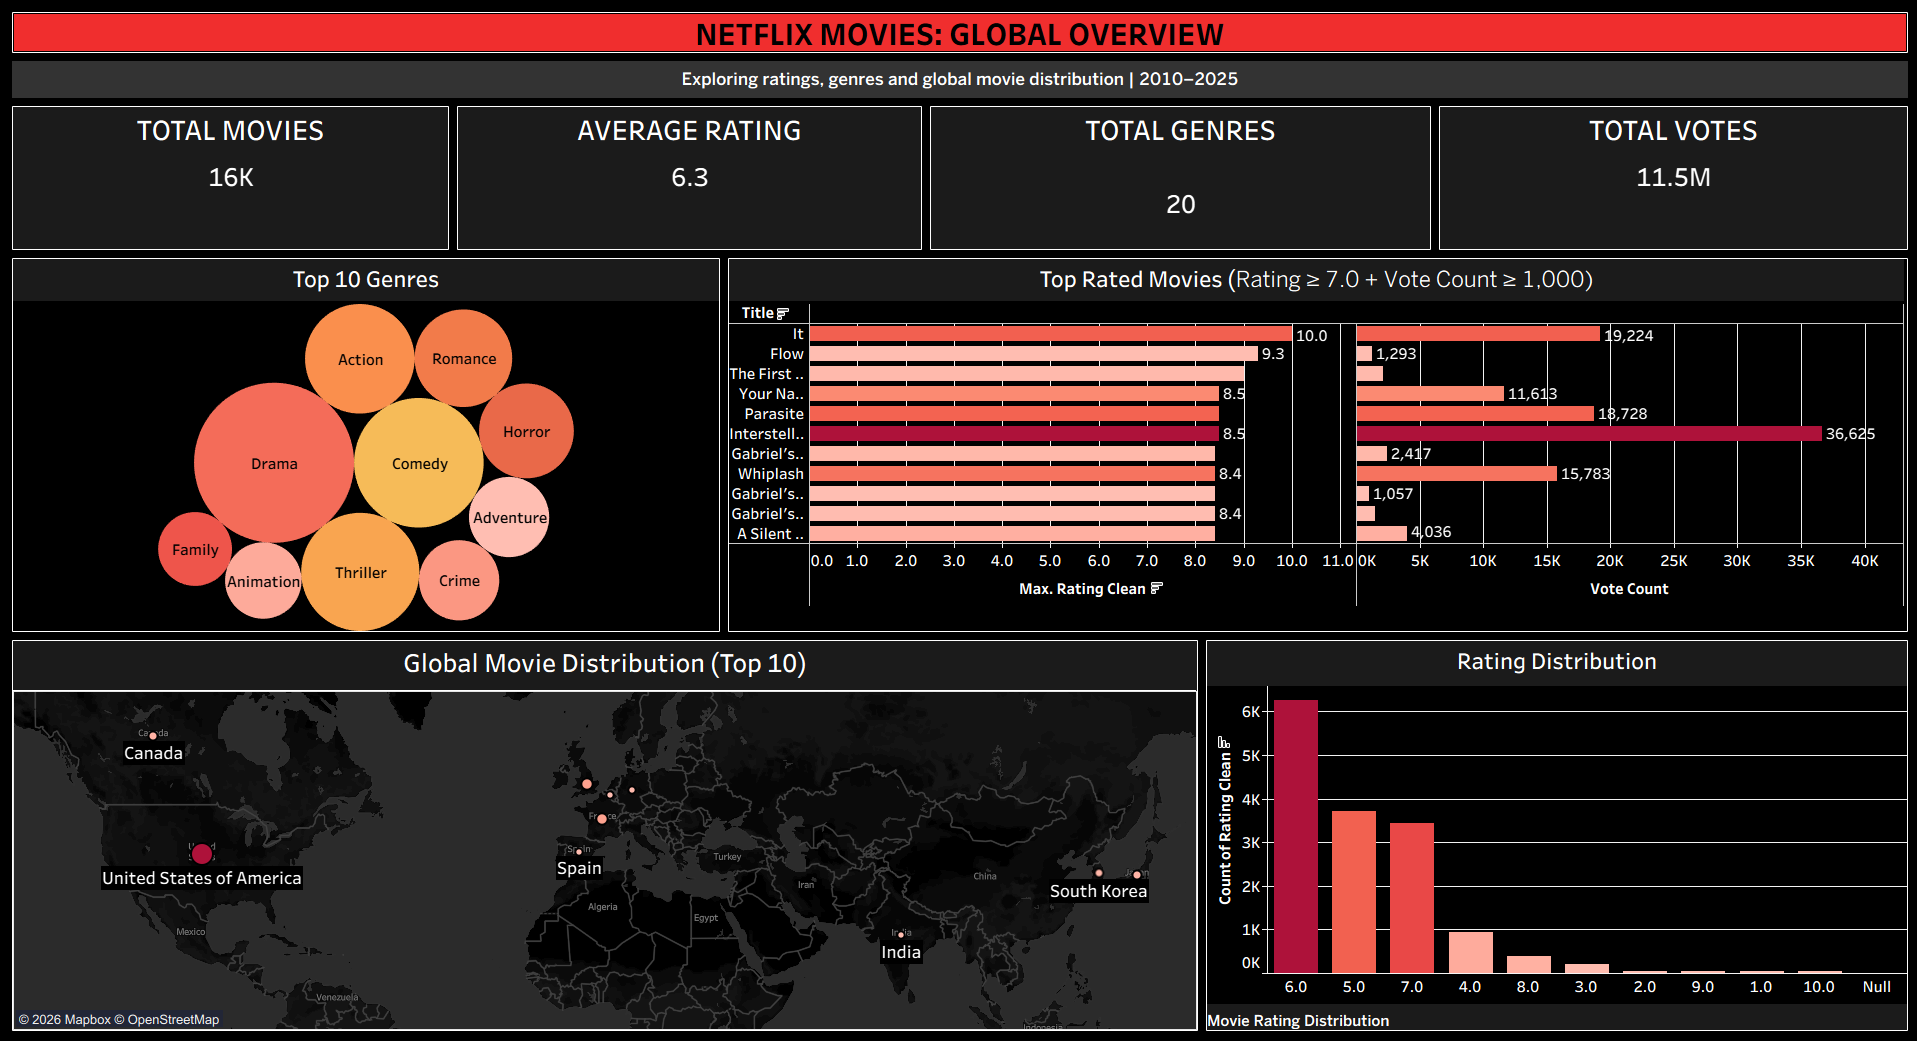

What the dashboard file says about the page in this screenshot:
{"tool":"tableau","page":{"name":"Dashboard 1","canvas":[1000,1000],"units":"permille","ordinal":0},"visuals":[{"type":"title","box":[4.8,9.4,990.3,57.6]},{"type":"text","box":[4.8,67,990.3,42.5]},{"type":"worksheet","title":"KPI_Total_Movies","mark":"Automatic","box":[4.8,109.4,268.6,143.7]},{"type":"worksheet","title":"KPI_Avg_Rating","mark":"Automatic","box":[273.4,109.4,285.5,143.7]},{"type":"worksheet","title":"KPI_Total_Genres","mark":"Automatic","box":[558.9,109.4,148.5,143.7]},{"type":"worksheet","title":"KPI_Total_Votes","mark":"Automatic","box":[707.3,109.4,287.9,143.7]},{"type":"worksheet","title":"Chart_Top_Genres","mark":"Circle","box":[4.8,253.1,372.2,361.2]},{"type":"worksheet","title":"Top_Rated_Movies","mark":"Automatic","rows":["title"],"cols":["rating_clean","vote_count"],"box":[377.1,253.1,618.1,361.2]},{"type":"worksheet","title":"Chart_Global_Movie_Distribution","mark":"Circle","box":[4.8,614.3,621.3,376.3]},{"type":"worksheet","title":"Chart_Rating_Distribution","mark":"Bar","rows":["rating_clean"],"cols":["Rating Clean (bin)"],"box":[626.1,614.3,369.1,376.3]}]}

Visuals, with their boxes on the dashboard's canvas, which has no fixed pixel size, in thousandths of its width and height (x1, y1, x2, y2). These are canvas units, not pixel positions in the 1917x1041 screenshot, which may show the page scaled, cropped or inside an application window:
title: left=5, top=9, right=995, bottom=67
text: left=5, top=67, right=995, bottom=110
"KPI_Total_Movies" worksheet: left=5, top=109, right=273, bottom=253
"KPI_Avg_Rating" worksheet: left=273, top=109, right=559, bottom=253
"KPI_Total_Genres" worksheet: left=559, top=109, right=707, bottom=253
"KPI_Total_Votes" worksheet: left=707, top=109, right=995, bottom=253
"Chart_Top_Genres" worksheet (Circle marks): left=5, top=253, right=377, bottom=614
"Top_Rated_Movies" worksheet: left=377, top=253, right=995, bottom=614
"Chart_Global_Movie_Distribution" worksheet (Circle marks): left=5, top=614, right=626, bottom=991
"Chart_Rating_Distribution" worksheet (Bar marks): left=626, top=614, right=995, bottom=991
